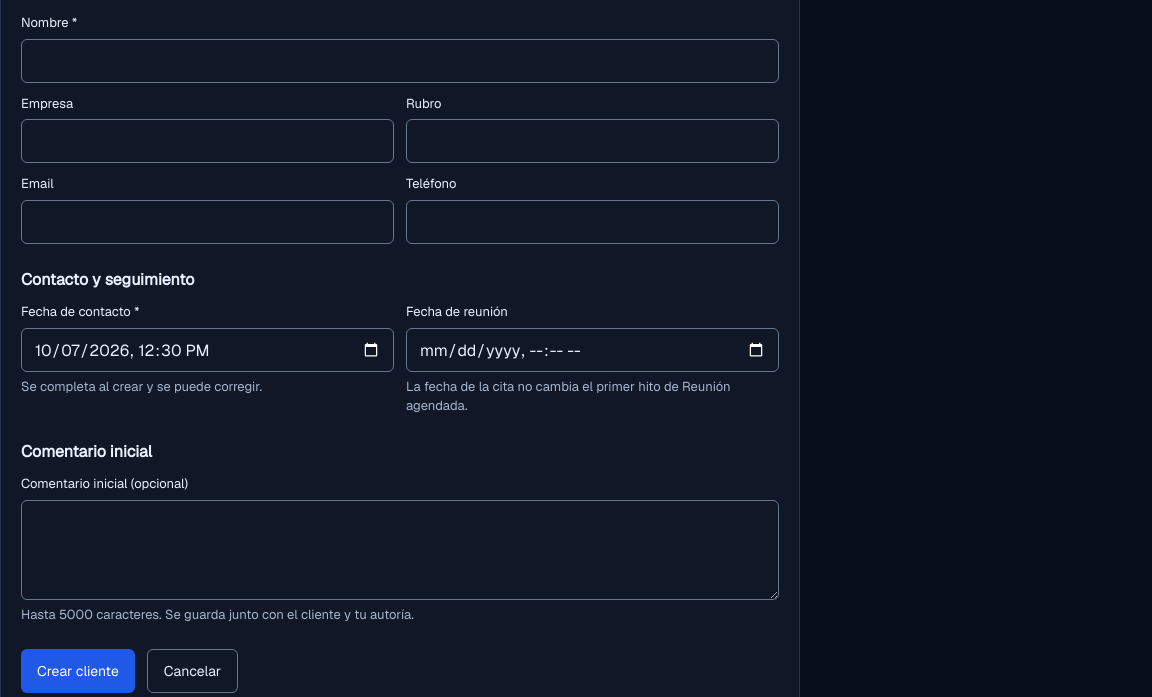
Test: approved client form interaction › does not navigate an unconfirmed error outcome
(page scrolled)
What coordinates should you click on to do the following:
click the button "Crear cliente"
I would click on:
 (78, 671)
Its box is [21, 649, 135, 693].
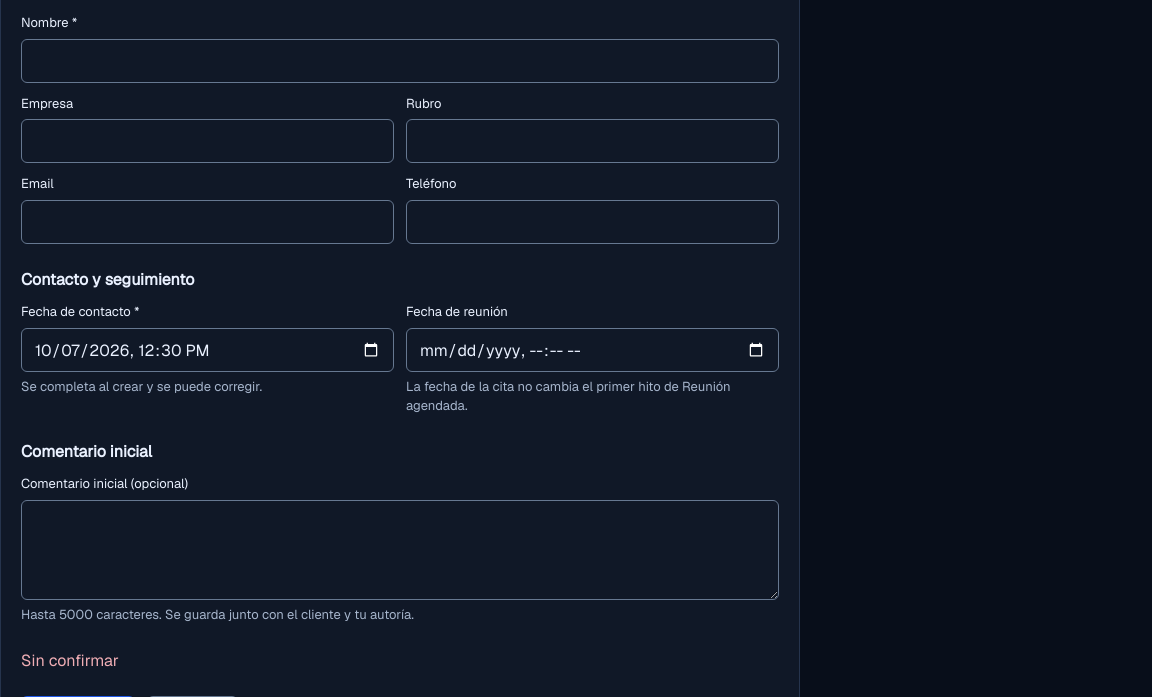
Result: the message "Sin confirmar" is shown at [21, 650, 119, 671]
